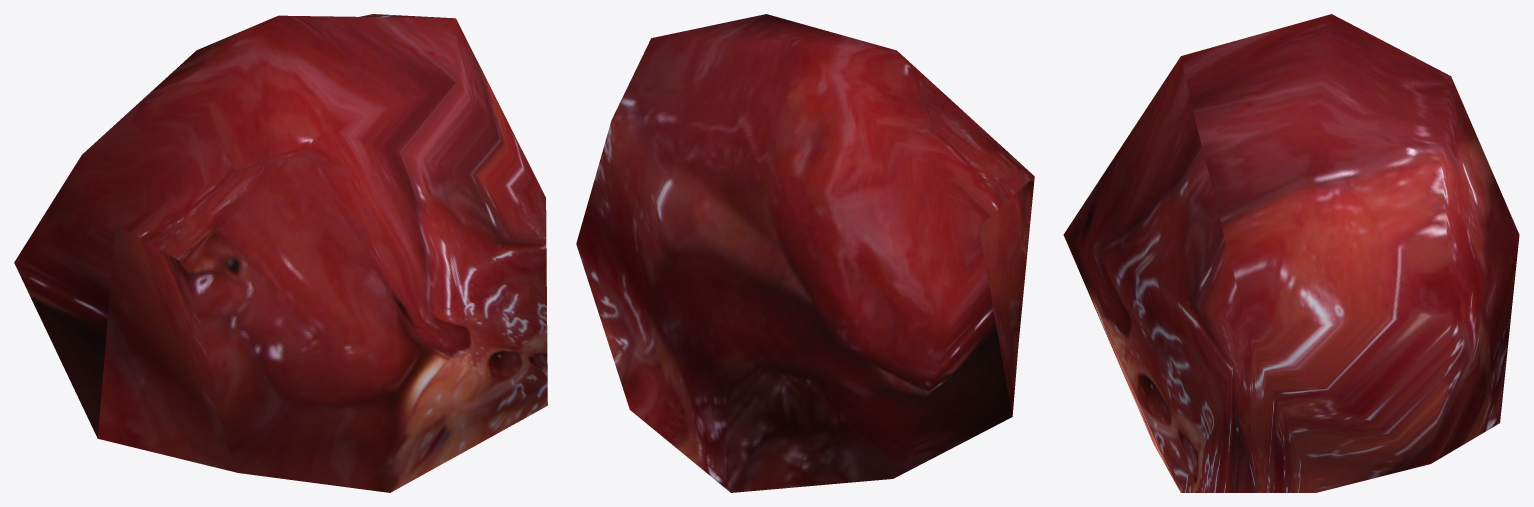
Rendered from gib_01.fbx.
3 renders of one model, left to right at view 1: azimuth 30°, elevation 25°; view 2: azimuth 150°, elevation 25°; view 3: azimuth 270°, elevation 25°, orthographic. The views are drawn at different scales.
Visible parts, largest first — view 1: meaty_gib5; view 2: meaty_gib5; view 3: meaty_gib5.
Part boxes in pixels (left/top/right/bottom): meaty_gib5: left=14, top=14, right=547, bottom=492; meaty_gib5: left=576, top=14, right=1034, bottom=492; meaty_gib5: left=1063, top=14, right=1519, bottom=492.
Bounding box in the file's own units: 0.1006 × 0.1016 × 0.0919.
